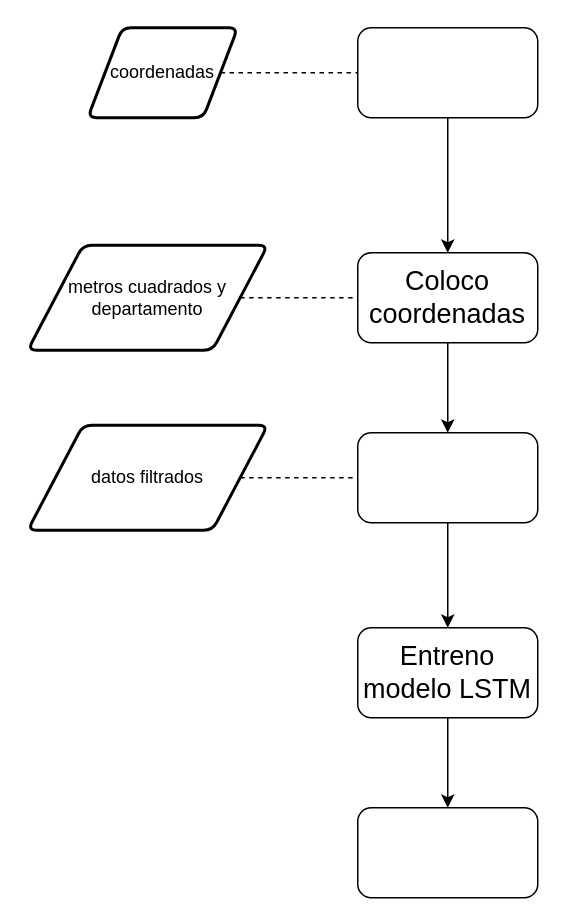
This 564x924 diagram has some shape labels left out. Each missing label, with the centre of its shape:
"Ejecuto el AG" goes at [447,852].
"Filtro datos" goes at [447,477].
"Selecciono campo" goes at [447,72].
